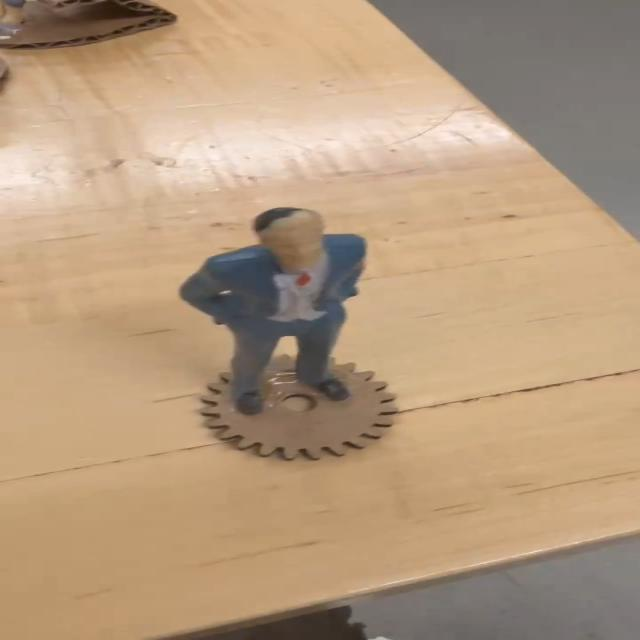Authorized: (167, 196, 382, 421)
